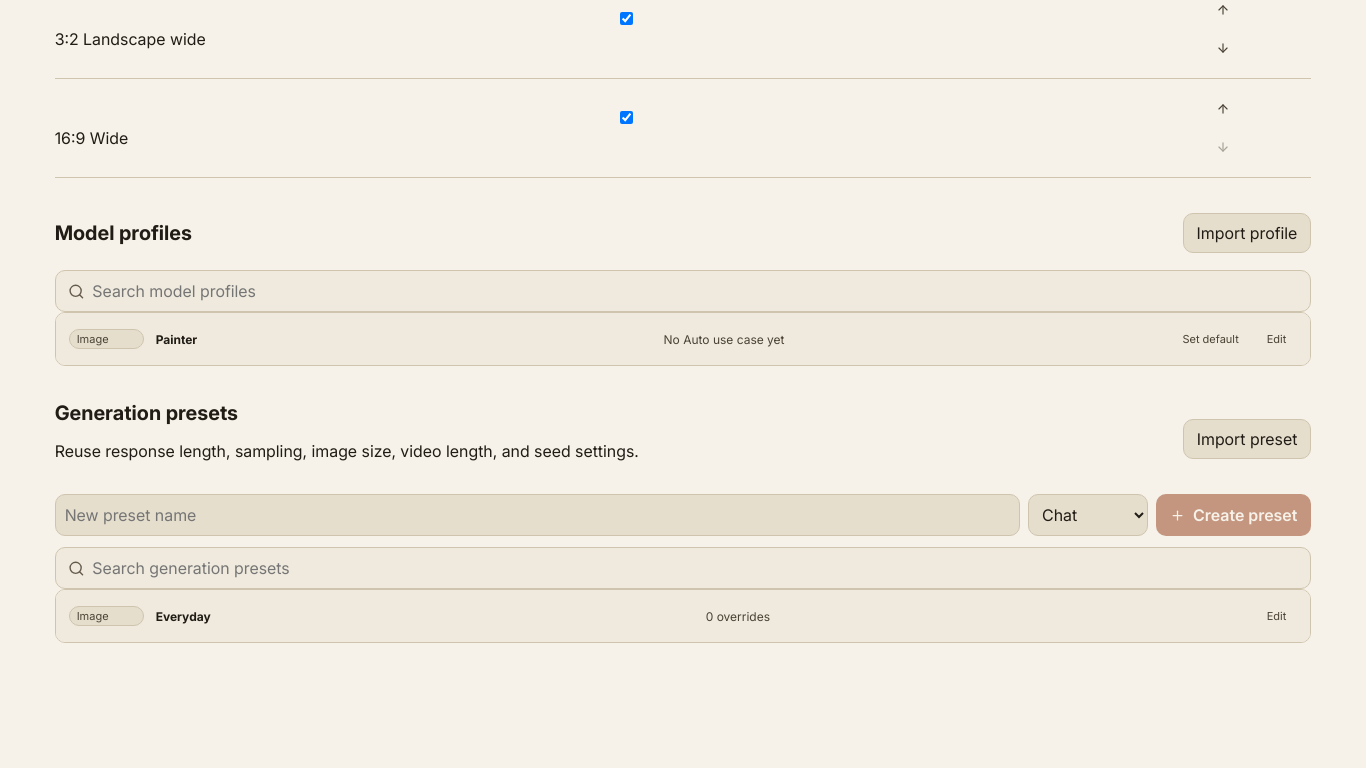
Test: opens a preset editor at the saved level, and a switch inside it stays with that editor
The width and height of the screenshot is (1366, 768).
(page scrolled)
Click the button with aria-label "Edit preset: Everyday".
click(1277, 616)  # box [1256,601,1297,631]
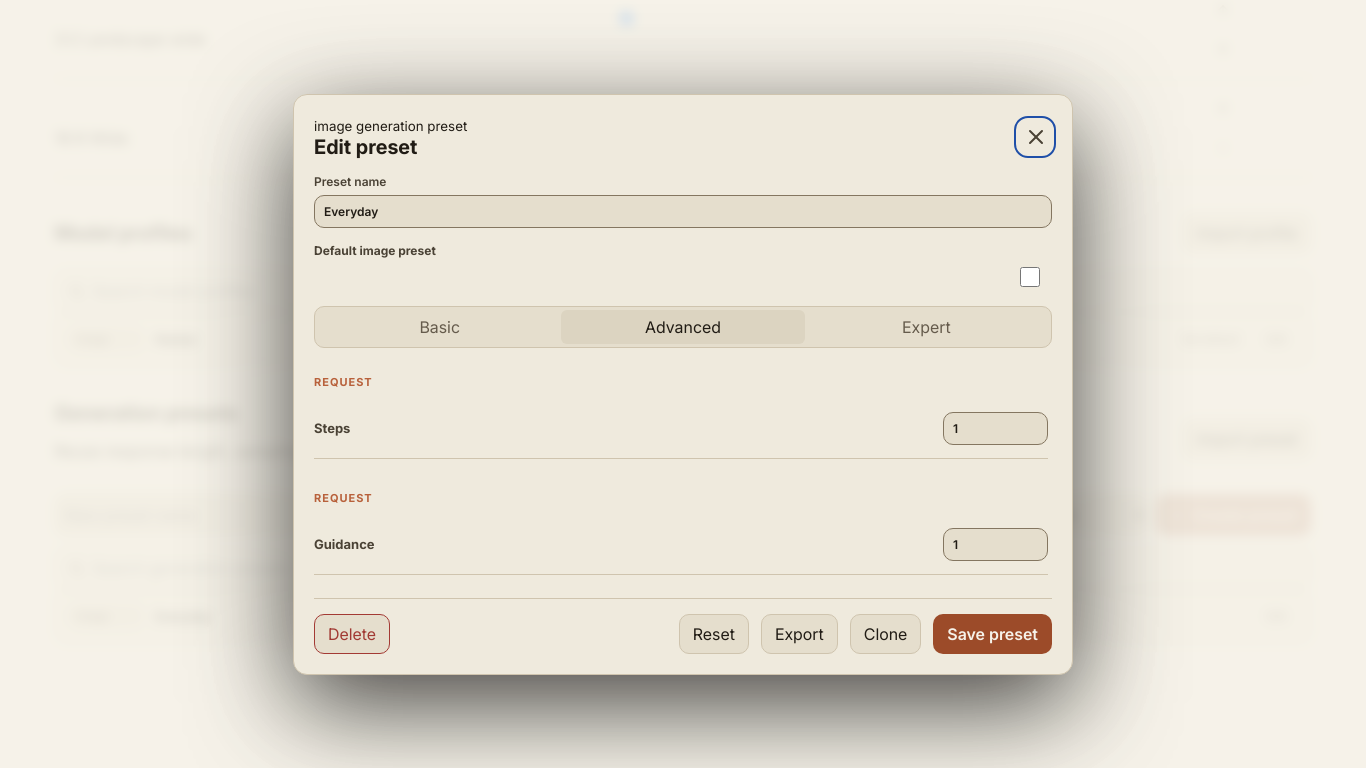
Expected: the button "advanced" is shown, [561,310,805,344]
Expected: the text "Guidance" is shown, [314,536,375,552]
Click the button "expert".
click(926, 326)  # box [805,310,1048,344]
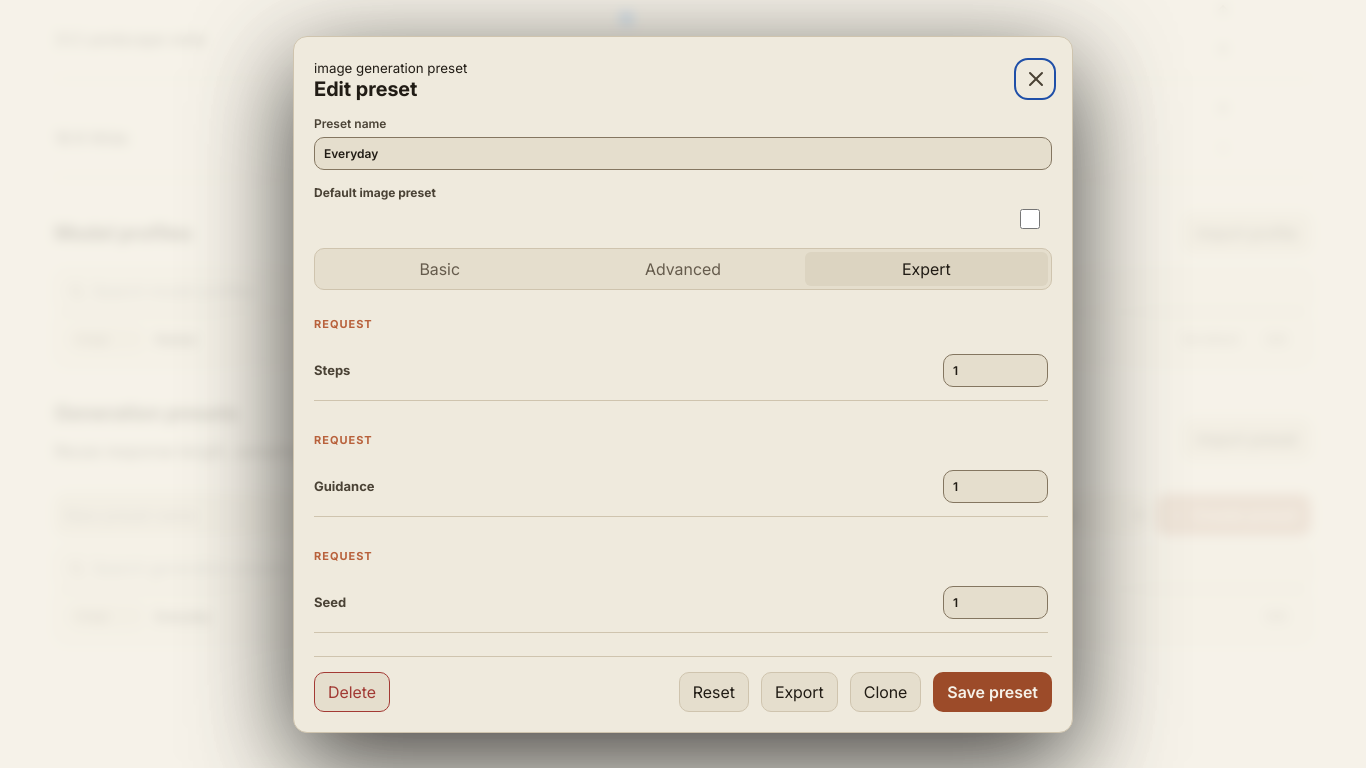
Expected: the button "advanced" is shown, [561,252,805,286]
Expected: the text "Seed" is shown, [314,594,346,610]
Click the button named "Close preset editor".
click(1035, 78)  # box [1018,62,1052,96]
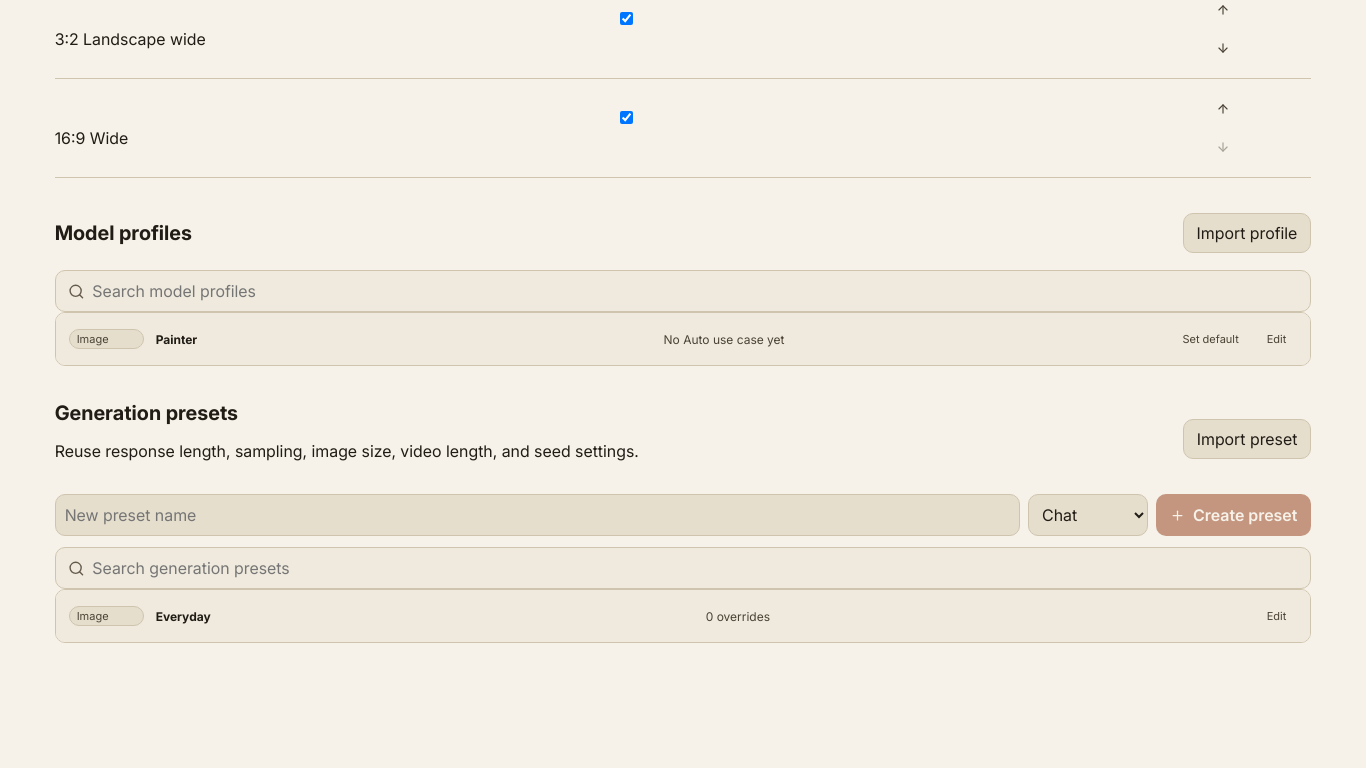
Click the button with aria-label "Edit preset: Everyday".
click(1277, 616)  # box [1256,601,1297,631]
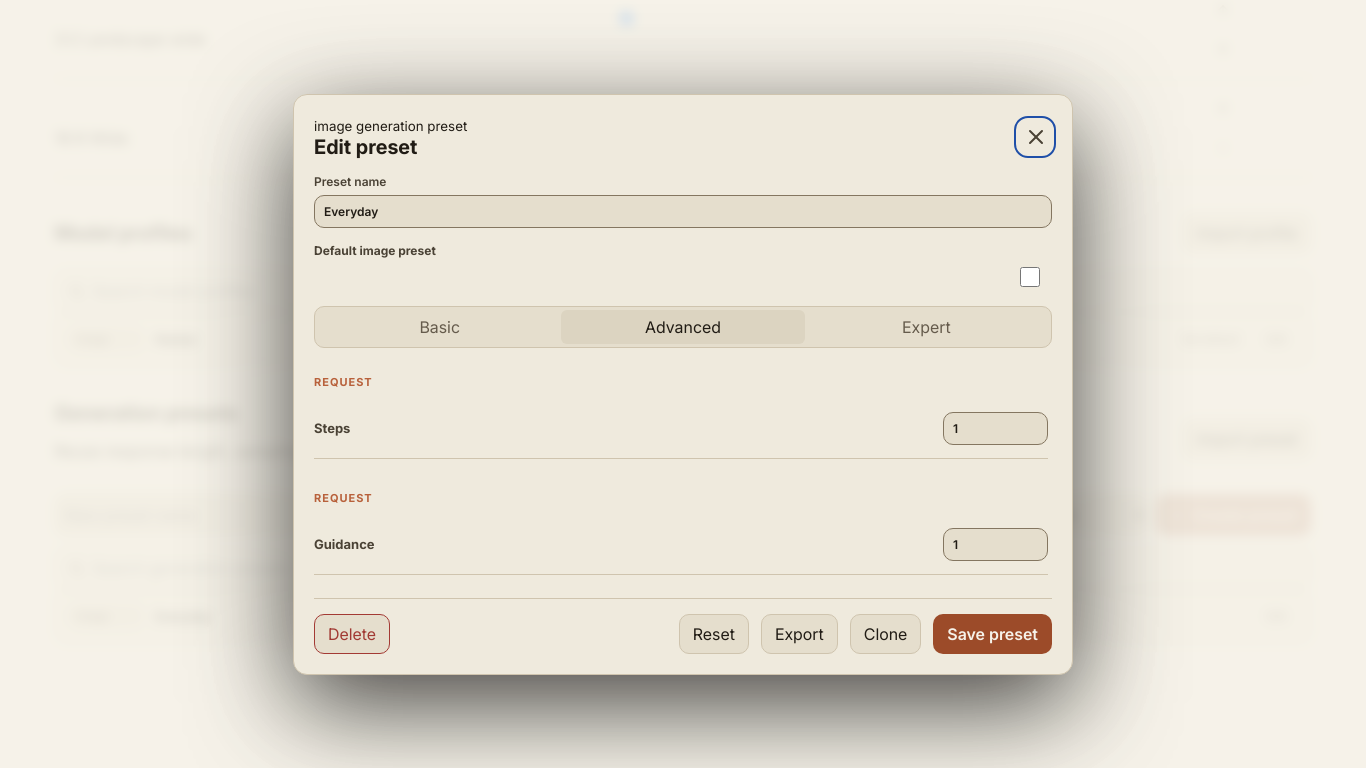
Expected: the button "advanced" is shown, [561,310,805,344]
